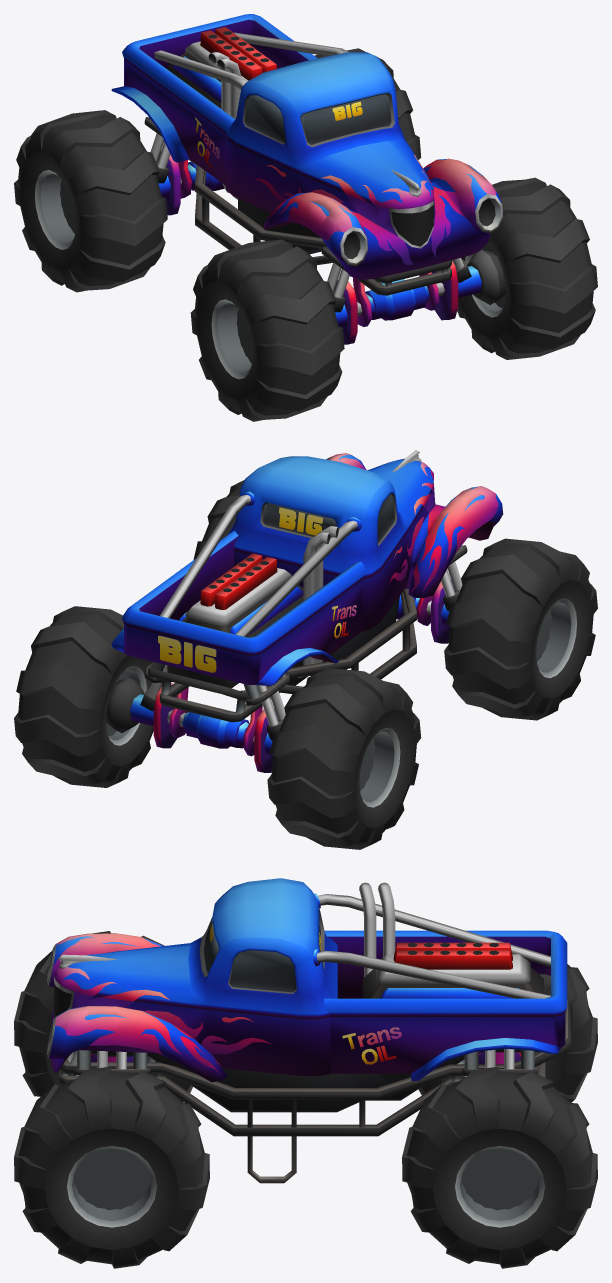
The model's file is Monster_Truck_9A.fbx.
3 renders of one model, top to bottom at view 1: azimuth 30°, elevation 25°; view 2: azimuth 150°, elevation 25°; view 3: azimuth 270°, elevation 25°, orthographic. The views are drawn at different scales.
Parts seen in each view (by area): view 1: Monster_Truck_9A_Body, Wheel_9A_R.R, Wheel_9A_F.R, Wheel_9A_F.L, Monster_Truck_9A_Livery, Monster_Truck_9A_Suspension_F.L, Monster_Truck_9A_Suspension_F.R, Monster_Truck_9A_Suspension_R.R, Wheel_9A_R.L; view 2: Monster_Truck_9A_Body, Wheel_9A_F.R, Wheel_9A_R.R, Wheel_9A_R.L, Monster_Truck_9A_Livery, Monster_Truck_9A_Suspension_R.L, Monster_Truck_9A_Suspension_R.R, Monster_Truck_9A_Suspension_F.R, Wheel_9A_F.L; view 3: Monster_Truck_9A_Body, Wheel_9A_F.L, Wheel_9A_R.L, Monster_Truck_9A_Livery, Wheel_9A_F.R, Wheel_9A_R.R, Monster_Truck_9A_Suspension_R.L, Monster_Truck_9A_Suspension_F.L.
Boxes of the visible parts, <box> form: Monster_Truck_9A_Body: <box>111,14,503,326</box>; Wheel_9A_R.R: <box>14,110,167,292</box>; Wheel_9A_F.R: <box>190,239,344,421</box>; Wheel_9A_F.L: <box>457,177,597,359</box>; Monster_Truck_9A_Livery: <box>195,101,498,265</box>; Monster_Truck_9A_Suspension_F.L: <box>432,249,505,320</box>; Monster_Truck_9A_Suspension_F.R: <box>321,246,357,344</box>; Monster_Truck_9A_Suspension_R.R: <box>144,117,180,215</box>; Wheel_9A_R.L: <box>314,48,421,159</box>; Monster_Truck_9A_Body: <box>111,450,503,756</box>; Wheel_9A_F.R: <box>444,538,597,720</box>; Wheel_9A_R.R: <box>267,668,421,849</box>; Wheel_9A_R.L: <box>14,606,153,787</box>; Monster_Truck_9A_Livery: <box>158,453,498,672</box>; Monster_Truck_9A_Suspension_R.L: <box>106,662,177,748</box>; Monster_Truck_9A_Suspension_R.R: <box>243,673,290,772</box>; Monster_Truck_9A_Suspension_F.R: <box>431,545,467,643</box>; Wheel_9A_F.L: <box>193,480,244,559</box>; Monster_Truck_9A_Body: <box>47,878,572,1183</box>; Wheel_9A_F.L: <box>14,1066,209,1268</box>; Wheel_9A_R.L: <box>402,1066,597,1268</box>; Monster_Truck_9A_Livery: <box>49,924,401,1073</box>; Wheel_9A_F.R: <box>14,931,192,1102</box>; Wheel_9A_R.R: <box>418,964,597,1102</box>; Monster_Truck_9A_Suspension_R.L: <box>461,1049,537,1075</box>; Monster_Truck_9A_Suspension_F.L: <box>74,1050,150,1075</box>.
Bounding box in the file's own units: 518 × 385 × 715.
